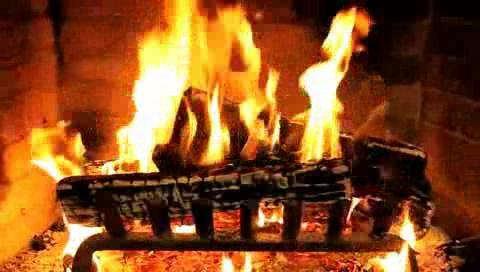fire: (123, 15, 349, 170)
